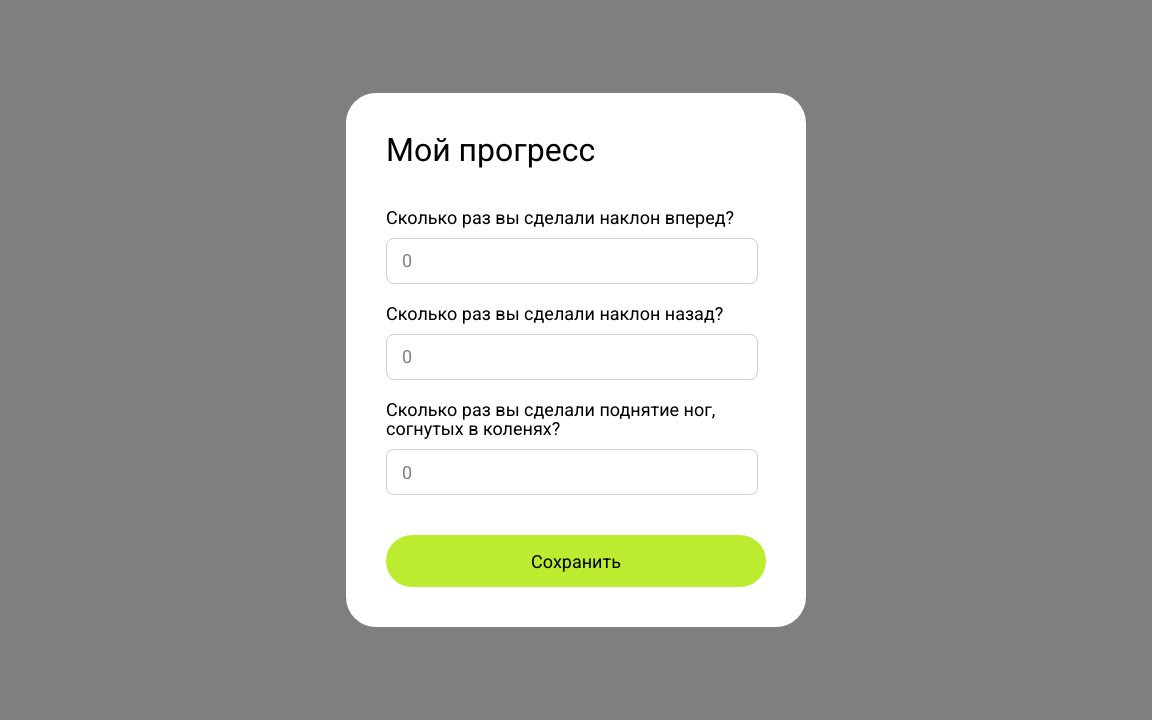
Test case: Движок заполнения прогресса (ProgressModal) › Не дает отправить пустые поля и выводит ошибку валидации
Click the button "Сохранить": (576, 561) [386,535,766,587]
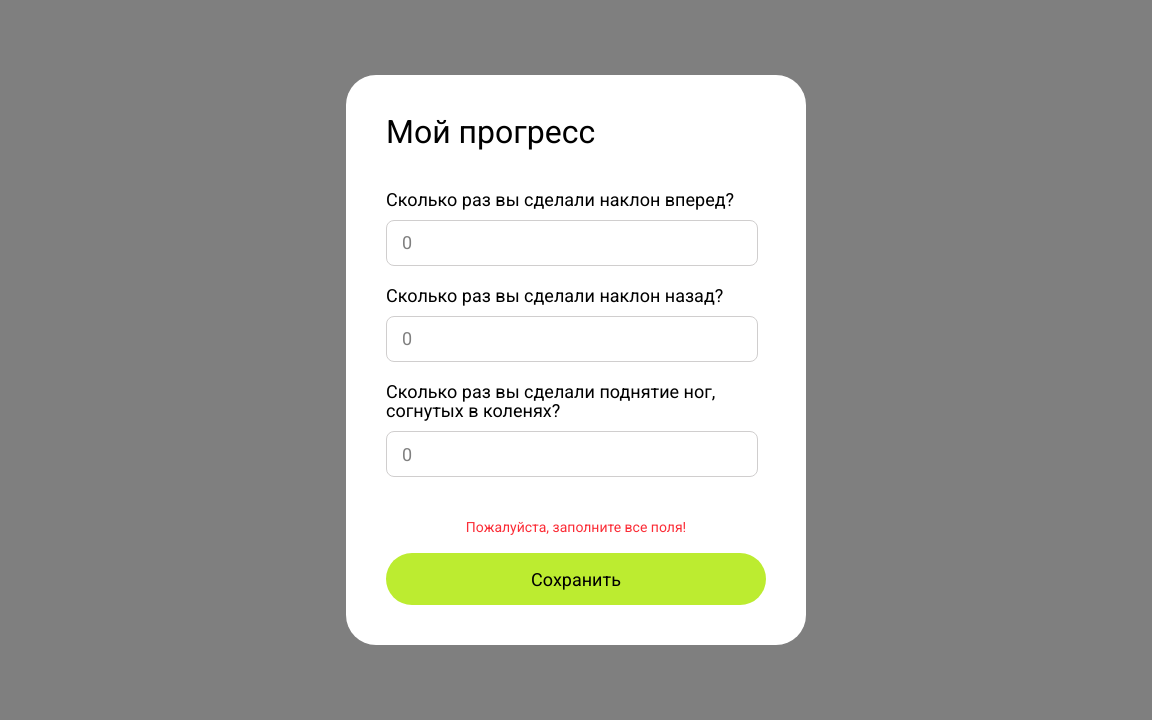
Expected: the text "Пожалуйста, заполните все поля!" is shown, [466,517,686,538]
